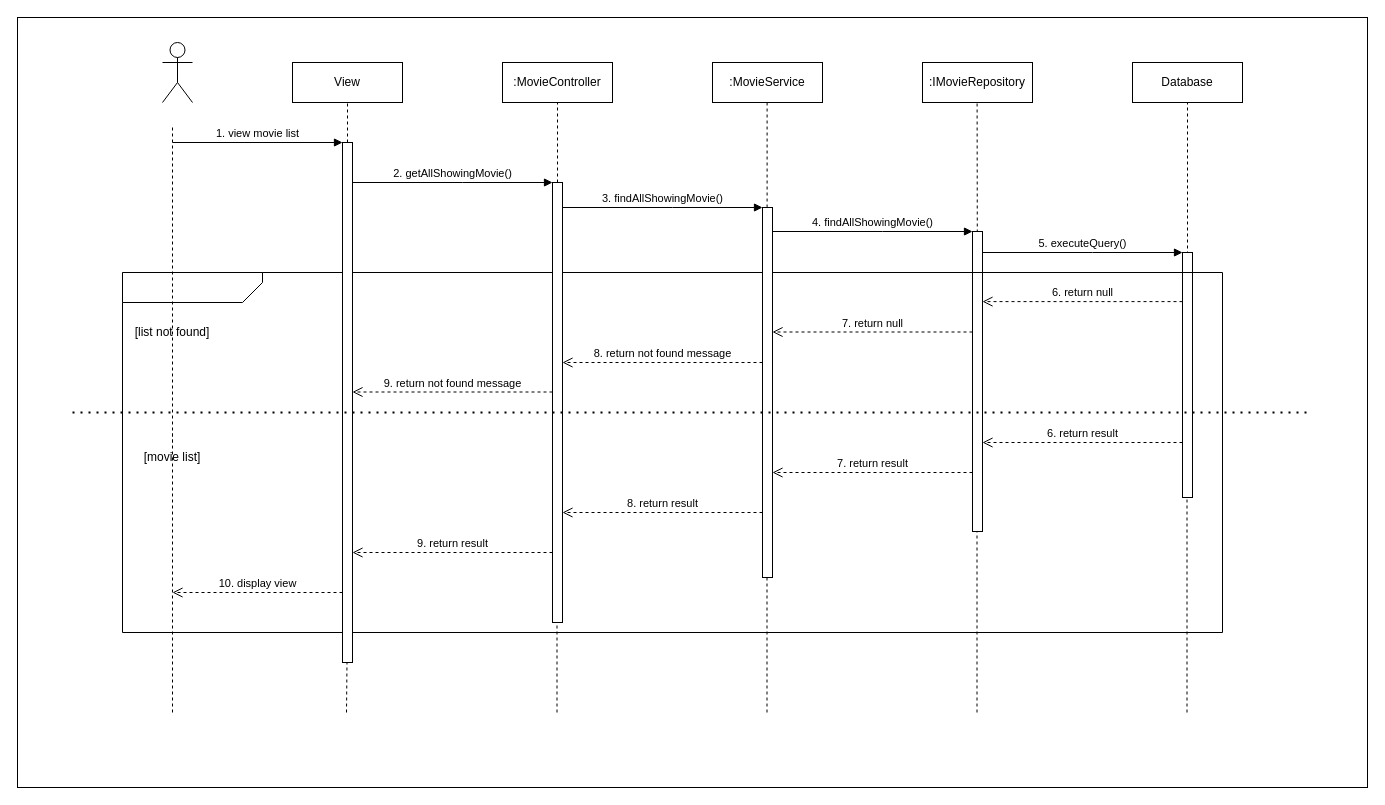
Some shapes in this 1385 by 805 pixel diagram are drawn without their labels. The box of each missing label's shape, as (x1, y1, x2, y2) in pixels:
alt find all movie: (122, 272, 262, 302)
Employee: (162, 42, 192, 102)
